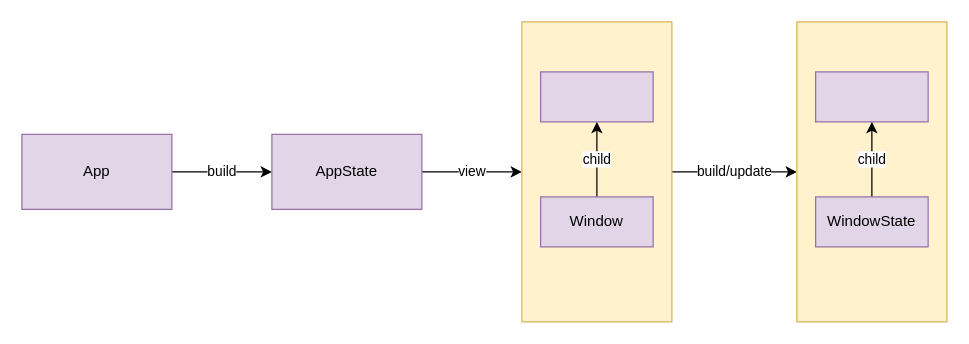
Image size: 969x344. Some labels were removed from this diagram. Here are the shapes that lost their labels. From the top down, the centre of each, then its label:
pixel 596 96: Label
pixel 871 96: LabelState
